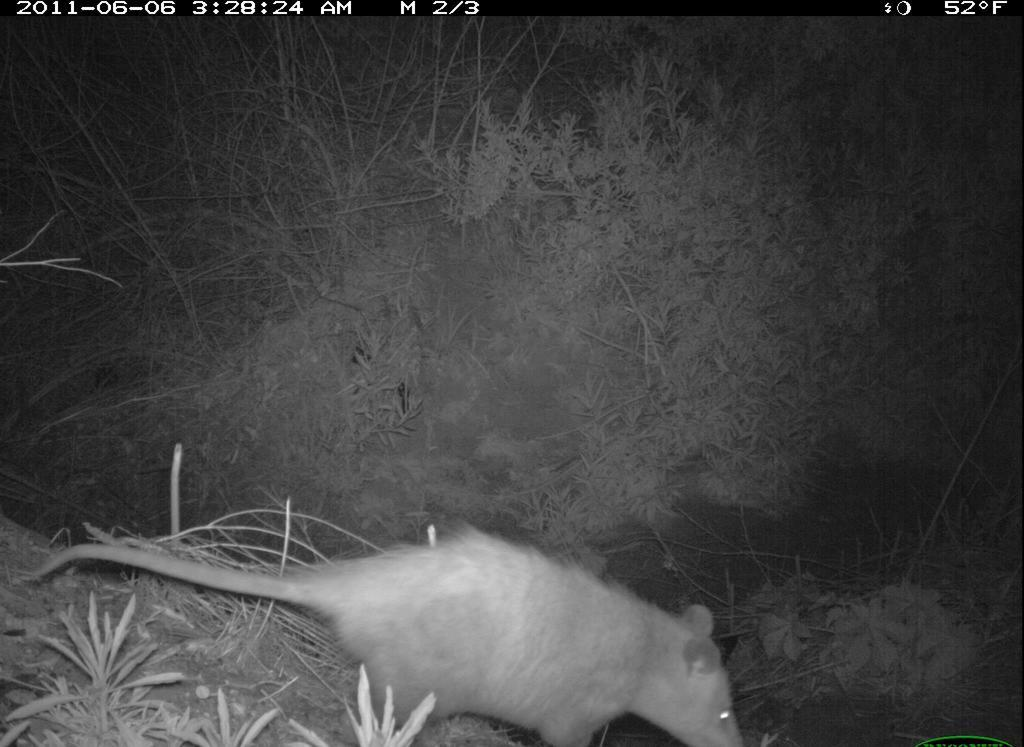opossum: (15, 488, 765, 745)
